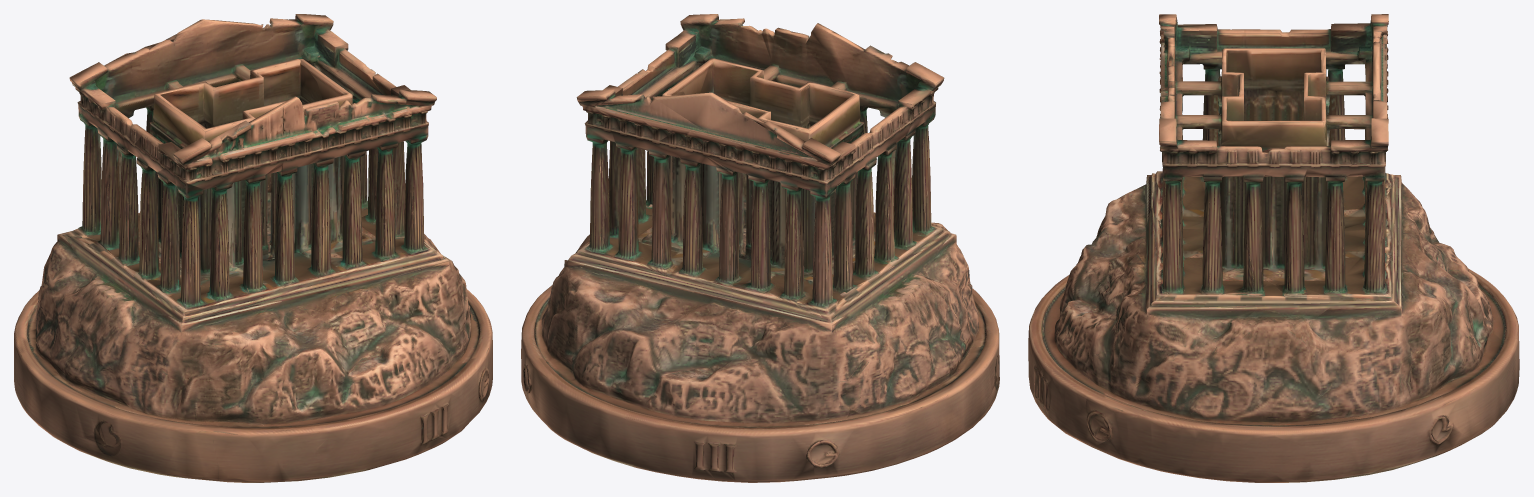
Rendered from acropolis_bronze.glb.
The picture shows the model from 3 angles, left to right: view 1: azimuth 30°, elevation 25°; view 2: azimuth 150°, elevation 25°; view 3: azimuth 270°, elevation 25°; orthographic projection. The views are drawn at different scales.
Parts seen in each view (by area): view 1: Mesh_0; view 2: Mesh_0; view 3: Mesh_0.
Boxes of the visible parts, x1,y1,x2,y2 form: Mesh_0: (14,14,492,482); Mesh_0: (521,14,999,482); Mesh_0: (1028,14,1519,482).
Size of the model in its own units: 1.91 by 1.44 by 1.91.
Materials: 1 (1 with a texture image).
